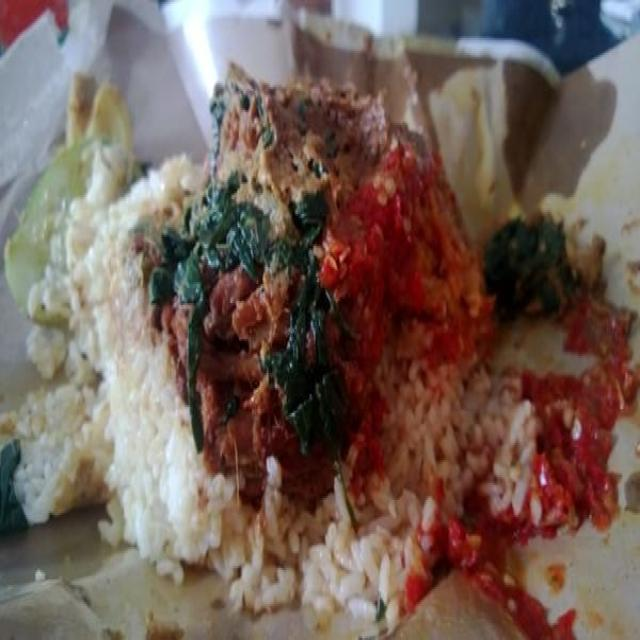米饭主食: (11, 17, 618, 623)
